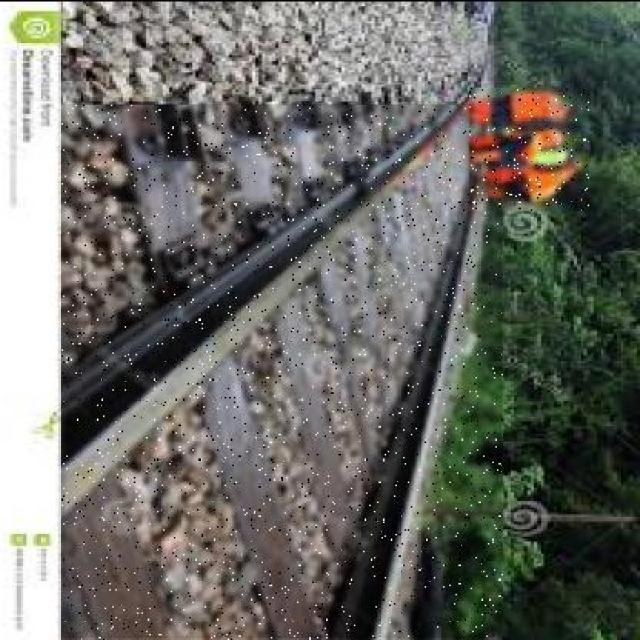rail: (63, 105, 503, 639)
